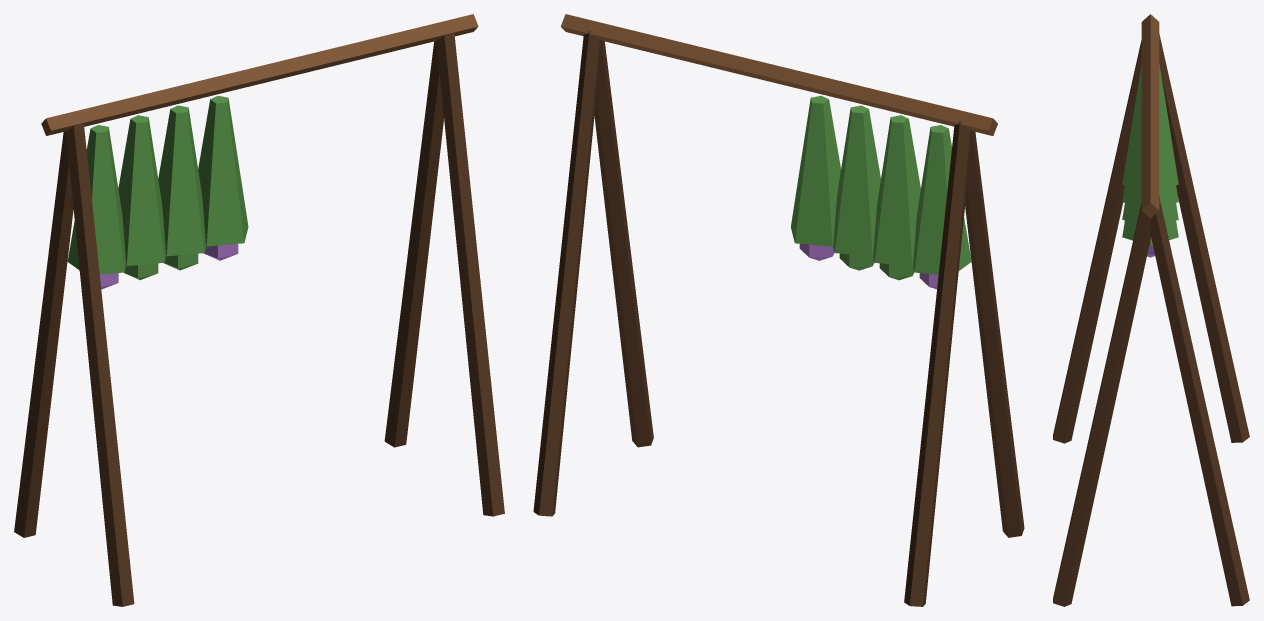
Rendered from pile_herbs_1.glb.
3 renders of one model, left to right at view 1: azimuth 30°, elevation 25°; view 2: azimuth 150°, elevation 25°; view 3: azimuth 270°, elevation 25°, orthographic. The views are drawn at different scales.
Parts seen in each view (by area): view 1: pile_herbs_1; view 2: pile_herbs_1; view 3: pile_herbs_1.
Boxes of the visible parts, x1,y1,x2,y2 form: pile_herbs_1: [14, 14, 504, 606]; pile_herbs_1: [533, 14, 1024, 606]; pile_herbs_1: [1053, 14, 1249, 606].
Bounding box in the file's own units: 1.5 × 1.54 × 0.6621.
